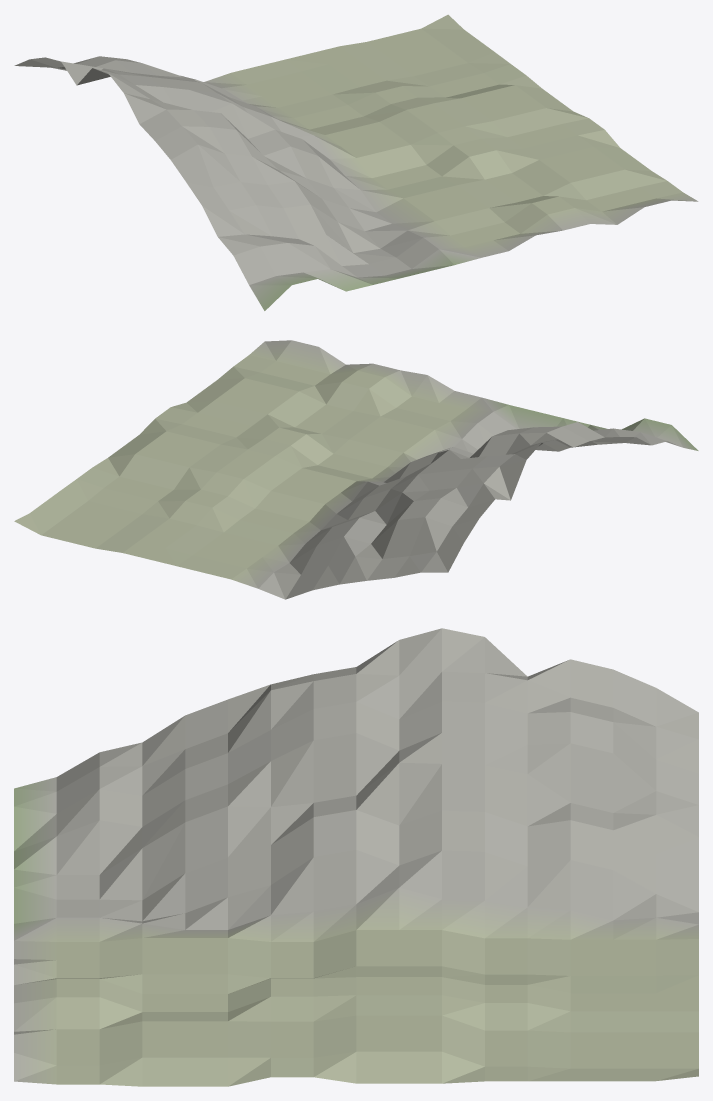
The picture shows the model from 3 angles, top to bottom: view 1: azimuth 30°, elevation 25°; view 2: azimuth 150°, elevation 25°; view 3: azimuth 270°, elevation 25°; orthographic projection. The views are drawn at different scales.
Size of the model in its own units: 32 by 9.51 by 32.
